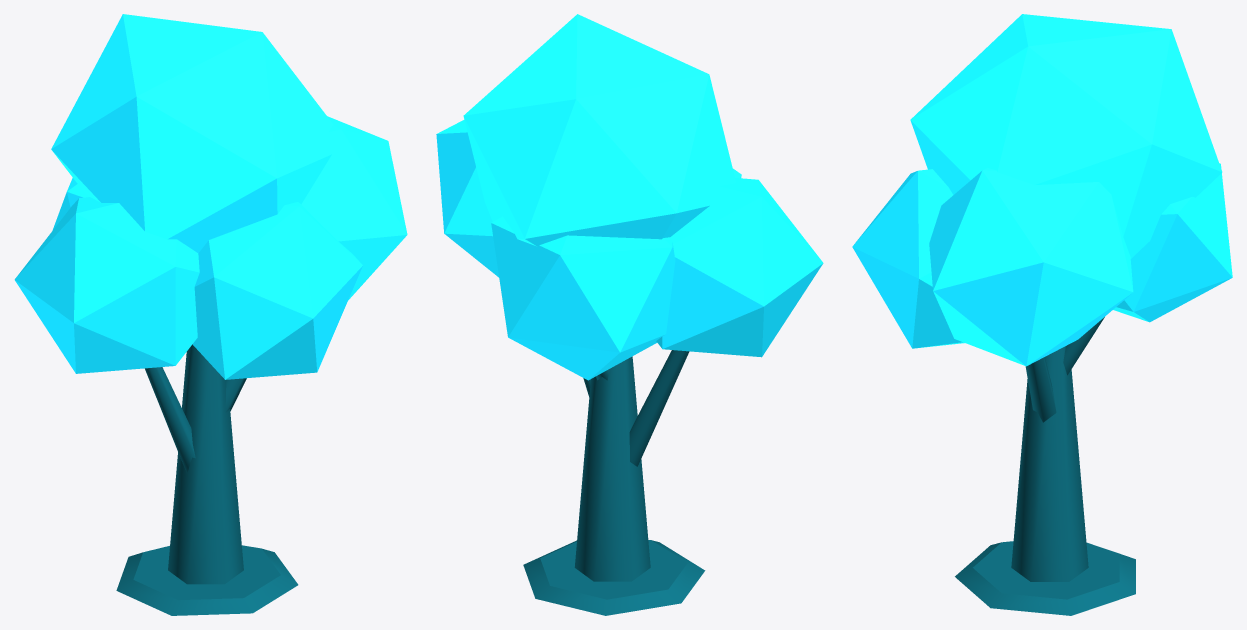
Rendered from Tree_Neon_Cyan.glb.
3 views of the same model, side by side, from view 1: azimuth 30°, elevation 25°; view 2: azimuth 150°, elevation 25°; view 3: azimuth 270°, elevation 25° (orthographic).
Visible parts, largest first — view 1: Tree_Neon_Cyan; view 2: Tree_Neon_Cyan; view 3: Tree_Neon_Cyan.
Boxes of the visible parts, x1=… form: Tree_Neon_Cyan: x1=14, y1=14, x2=407, y2=615; Tree_Neon_Cyan: x1=436, y1=14, x2=823, y2=615; Tree_Neon_Cyan: x1=852, y1=14, x2=1232, y2=615.
Bounding box in the file's own units: 2.48 × 3.68 × 2.29.
